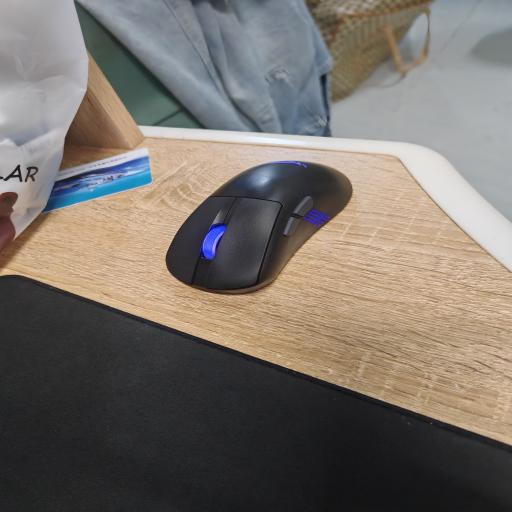mouse: (166, 161, 352, 293)
